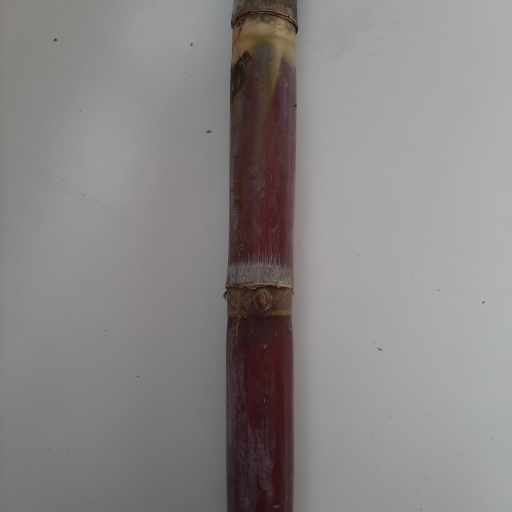Bud: (250, 287, 274, 315)
